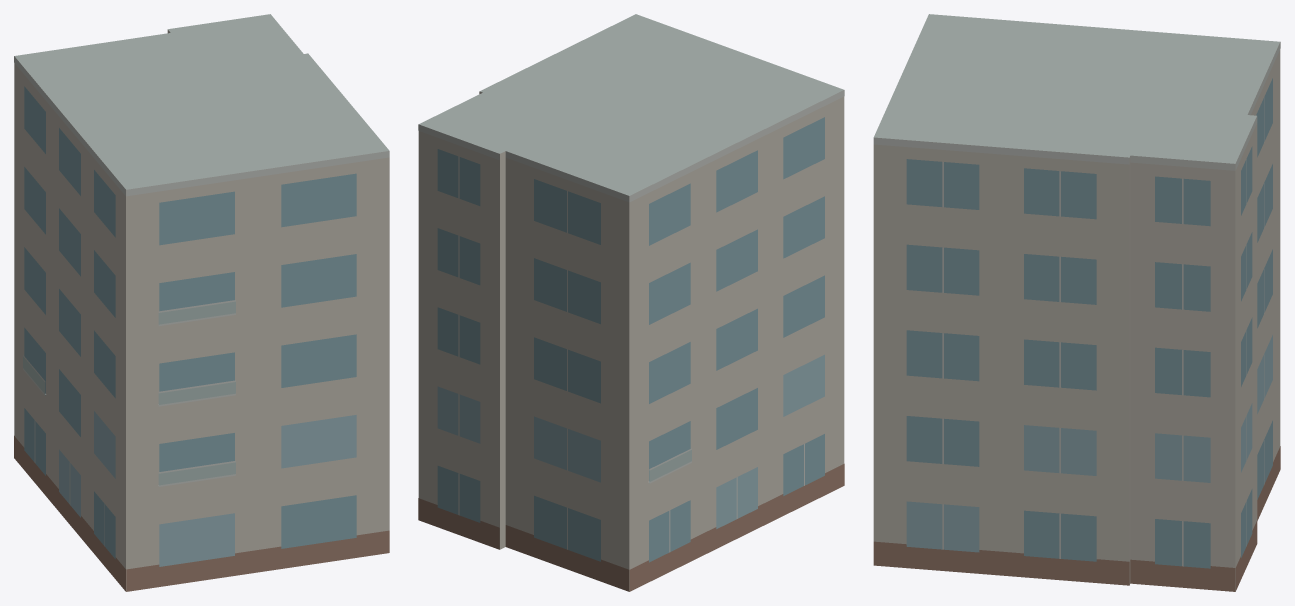
File: survey-upis-32958910.glb
3 renders of one model, left to right at view 1: azimuth 30°, elevation 25°; view 2: azimuth 150°, elevation 25°; view 3: azimuth 270°, elevation 25°, orthographic. The views are drawn at different scales.
Parts seen in each view (by area): view 1: survey-upis-32958910.tmp; view 2: survey-upis-32958910.tmp; view 3: survey-upis-32958910.tmp.
Part boxes in pixels (x1,y1,x2,y2): survey-upis-32958910.tmp: (14,14,389,591); survey-upis-32958910.tmp: (418,14,844,591); survey-upis-32958910.tmp: (873,14,1280,591).
Size of the model in its own units: 11.2 by 14.9 by 12.84.
